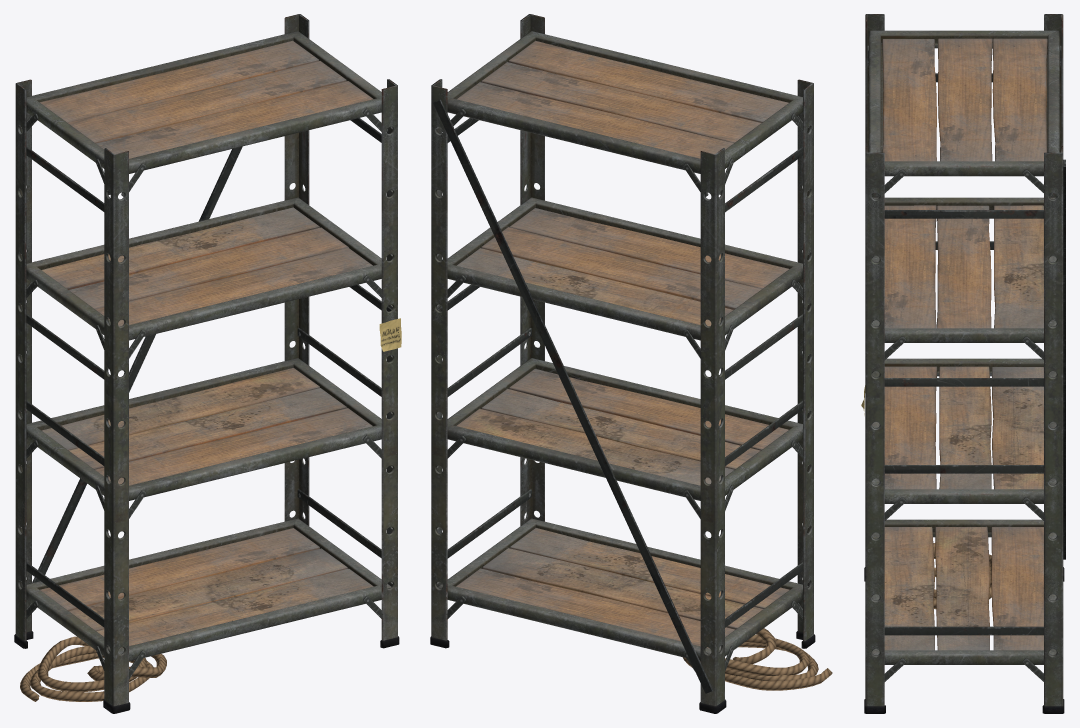
File: rack_small.glb
3 renders of one model, left to right at view 1: azimuth 30°, elevation 25°; view 2: azimuth 150°, elevation 25°; view 3: azimuth 270°, elevation 25°, orthographic.
Visible parts, largest first — view 1: rack_small; view 2: rack_small; view 3: rack_small.
Boxes of the visible parts, bbox=[...] form: rack_small: bbox=[14, 14, 401, 713]; rack_small: bbox=[430, 14, 832, 713]; rack_small: bbox=[861, 14, 1065, 713].
Bounding box in the file's own units: 1.19 × 1.88 × 0.6224.
Materials: 1 (1 with a texture image).
